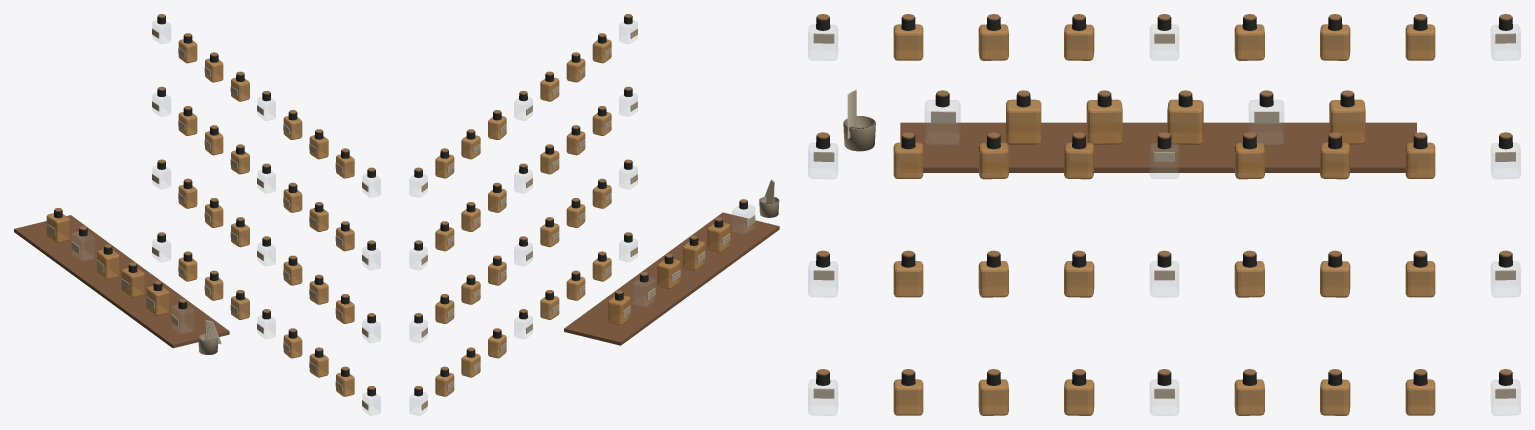
The model's file is mf_fragrance_props.glb.
3 views of the same model, side by side, from view 1: azimuth 30°, elevation 25°; view 2: azimuth 150°, elevation 25°; view 3: azimuth 270°, elevation 25° (orthographic). The views are drawn at different scales.
Visible parts, largest first — view 1: mf_fragrance_props, fragrance__2, fragrance__1, fragrance__5, fragrance__3, fragrance__4, fragrance__0; view 2: mf_fragrance_props, fragrance__3, fragrance__1, fragrance__2, fragrance__5, fragrance__0, fragrance__4; view 3: mf_fragrance_props, fragrance__2, fragrance__1, fragrance__3, fragrance__0, fragrance__5, fragrance__4.
Boxes of the visible parts, x1=… form: mf_fragrance_props: x1=14, y1=14, x2=380, y2=415; fragrance__2: x1=121, y1=262, x2=144, y2=297; fragrance__1: x1=146, y1=280, x2=169, y2=315; fragrance__5: x1=46, y1=208, x2=69, y2=242; fragrance__3: x1=96, y1=244, x2=119, y2=279; fragrance__4: x1=71, y1=226, x2=94, y2=260; fragrance__0: x1=171, y1=299, x2=193, y2=333; mf_fragrance_props: x1=409, y1=14, x2=779, y2=415; fragrance__3: x1=657, y1=253, x2=680, y2=288; fragrance__1: x1=707, y1=217, x2=730, y2=252; fragrance__2: x1=682, y1=235, x2=705, y2=270; fragrance__5: x1=608, y1=290, x2=630, y2=325; fragrance__0: x1=732, y1=199, x2=755, y2=233; fragrance__4: x1=633, y1=272, x2=655, y2=306; mf_fragrance_props: x1=808, y1=14, x2=1520, y2=415; fragrance__2: x1=1086, y1=90, x2=1122, y2=144; fragrance__1: x1=1006, y1=90, x2=1041, y2=144; fragrance__3: x1=1167, y1=90, x2=1203, y2=144; fragrance__0: x1=925, y1=90, x2=960, y2=144; fragrance__5: x1=1329, y1=90, x2=1365, y2=144; fragrance__4: x1=1249, y1=90, x2=1283, y2=144.
Size of the model in its own units: 1.32 by 1.7 by 2.77.
